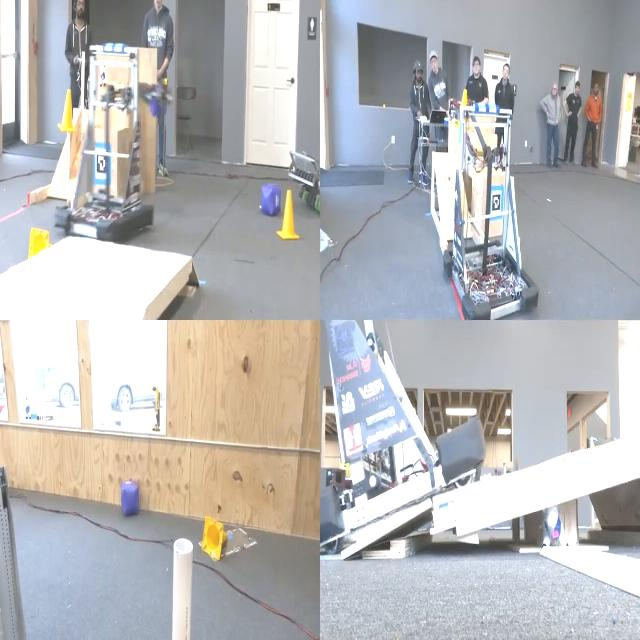frc_cone: (278, 188, 304, 248), (200, 516, 228, 556), (58, 88, 77, 136), (27, 227, 50, 260), (458, 79, 471, 129)
frc_cube: (259, 174, 279, 218), (118, 479, 142, 514)
